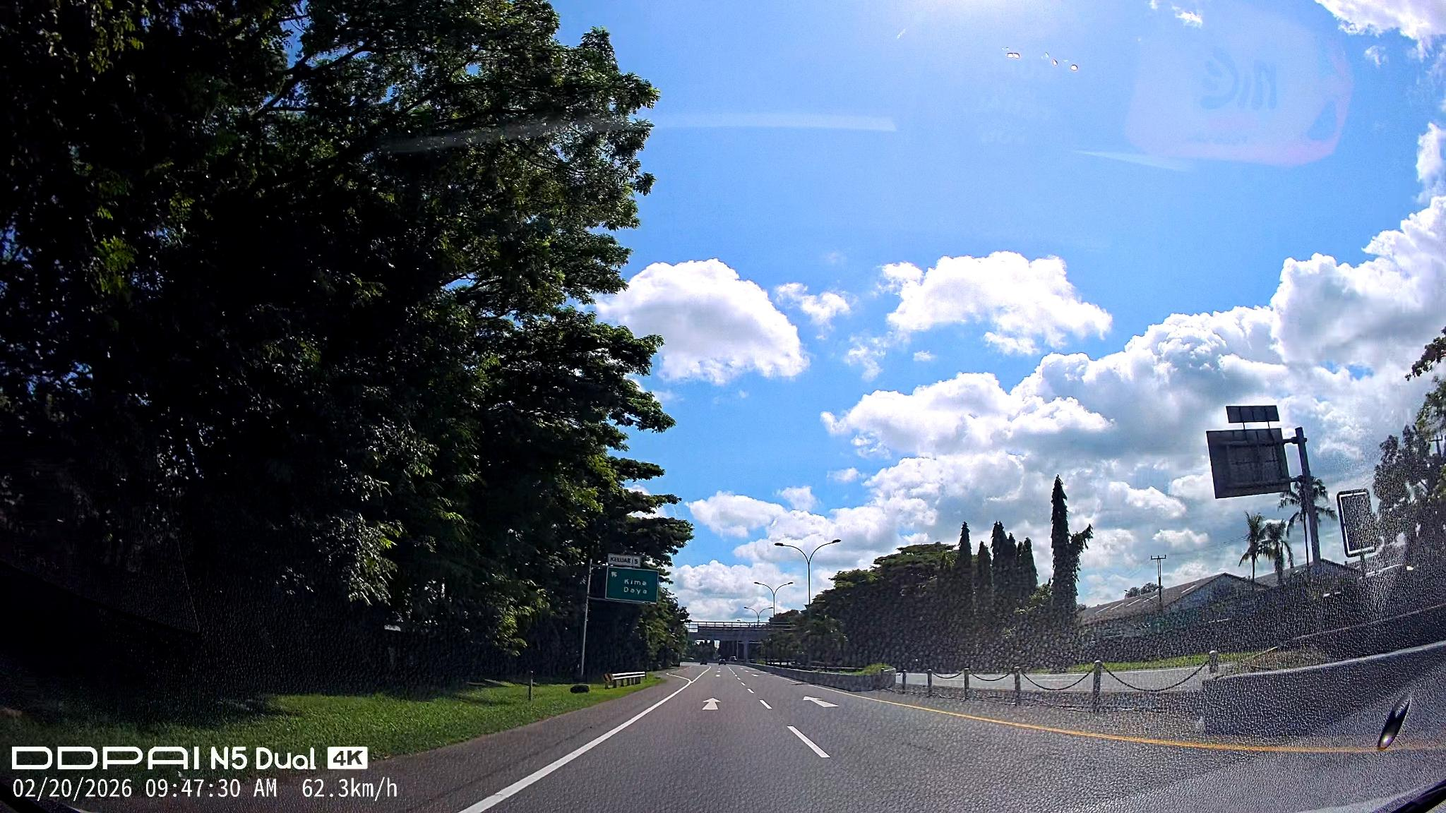rambu_teks: (604, 566, 659, 604)
